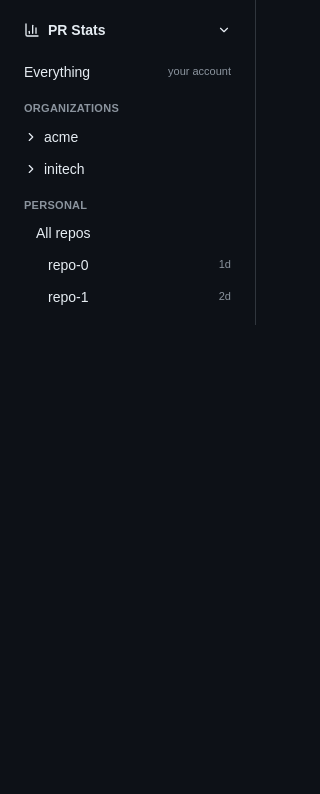
Scenario: StatsSidebar: truncation is never silent › says when a member list is truncated
Step 1. Click the button "acme" → (128, 136), box [12, 120, 243, 152]
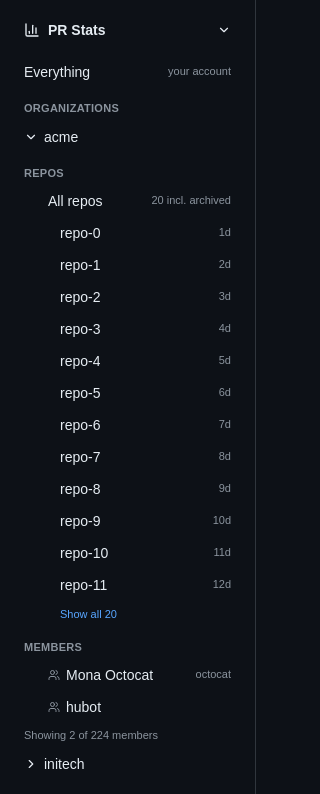
Expected: the text "Showing 2 of 224 members" is shown, [24, 729, 158, 741]
